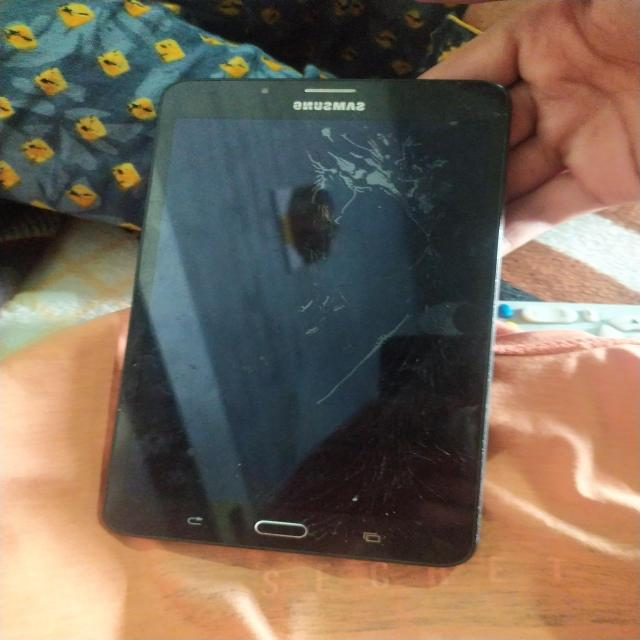mobile: (34, 46, 583, 581)
